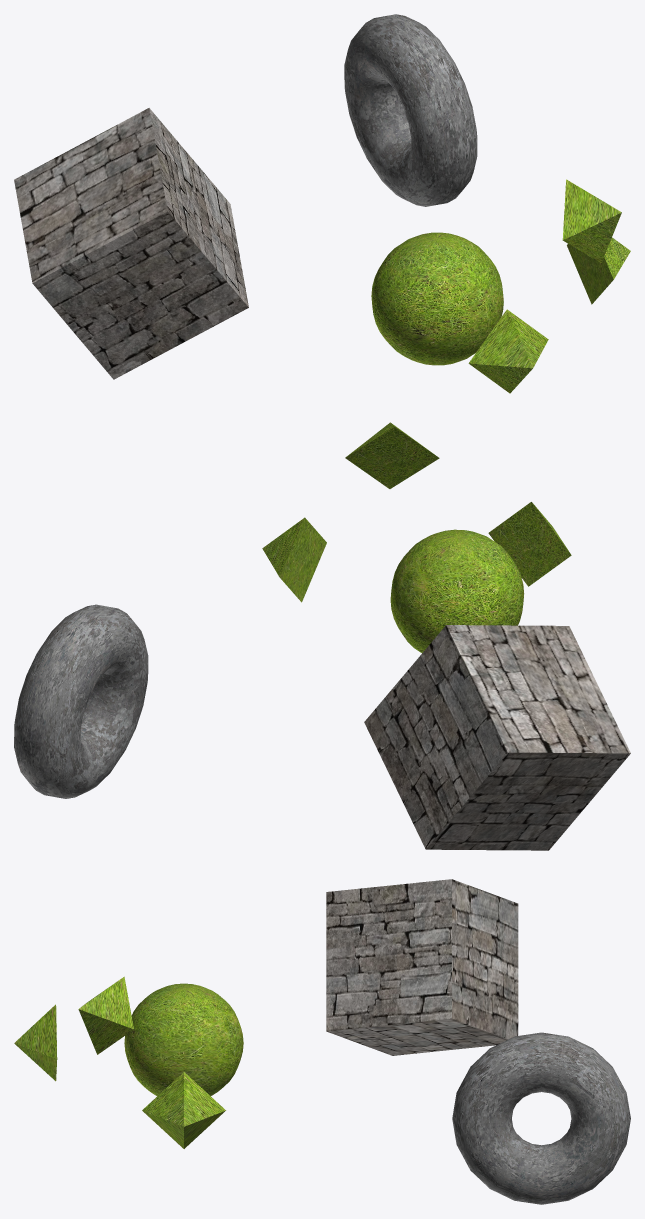
The model's file is primitives_with_parent.fbx.
3 views of the same model, one above another, from view 1: azimuth 30°, elevation 25°; view 2: azimuth 150°, elevation 25°; view 3: azimuth 270°, elevation 25° (orthographic). The views are drawn at different scales.
Parts seen in each view (by area): view 1: pCube1, pTorus1, pSphere1, pPyramid2, pPyramid3, pPyramid1; view 2: pCube1, pTorus1, pSphere1, pPyramid2, pPyramid3, pPyramid1; view 3: pCube1, pTorus1, pSphere1, pPyramid1, pPyramid3, pPyramid2.
Part boxes in pixels (bbox=[...]): pCube1: bbox=[14, 108, 248, 379]; pTorus1: bbox=[344, 14, 477, 206]; pSphere1: bbox=[371, 232, 503, 365]; pPyramid2: bbox=[468, 309, 548, 393]; pPyramid3: bbox=[562, 179, 621, 262]; pPyramid1: bbox=[567, 237, 630, 304]; pCube1: bbox=[364, 625, 630, 850]; pTorus1: bbox=[14, 604, 148, 798]; pSphere1: bbox=[390, 529, 524, 652]; pPyramid2: bbox=[488, 502, 571, 586]; pPyramid3: bbox=[345, 422, 439, 488]; pPyramid1: bbox=[262, 517, 326, 602]; pCube1: bbox=[326, 879, 518, 1055]; pTorus1: bbox=[452, 1032, 630, 1204]; pSphere1: bbox=[124, 983, 243, 1095]; pPyramid1: bbox=[142, 1072, 225, 1148]; pPyramid3: bbox=[78, 976, 133, 1054]; pPyramid2: bbox=[14, 1004, 57, 1081].
Size of the model in its own units: 8.61 by 3.92 by 10.35.
3 materials, 3 textured.
